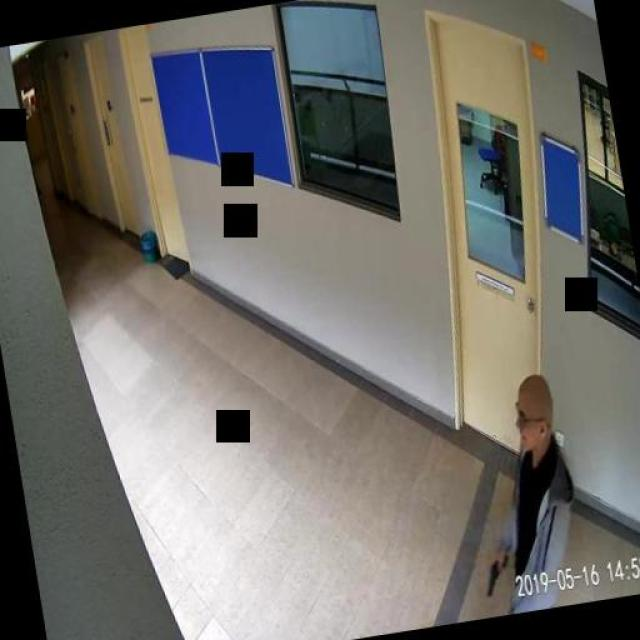gun: (479, 551, 511, 595)
